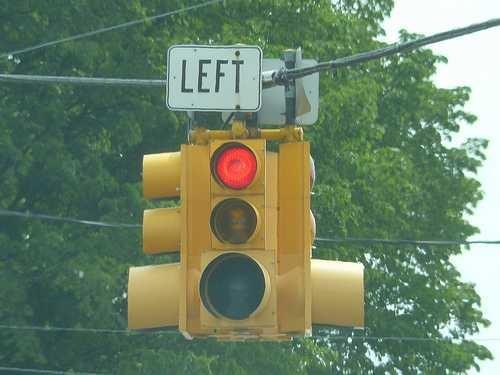red: (197, 137, 275, 327), (205, 138, 262, 195)
